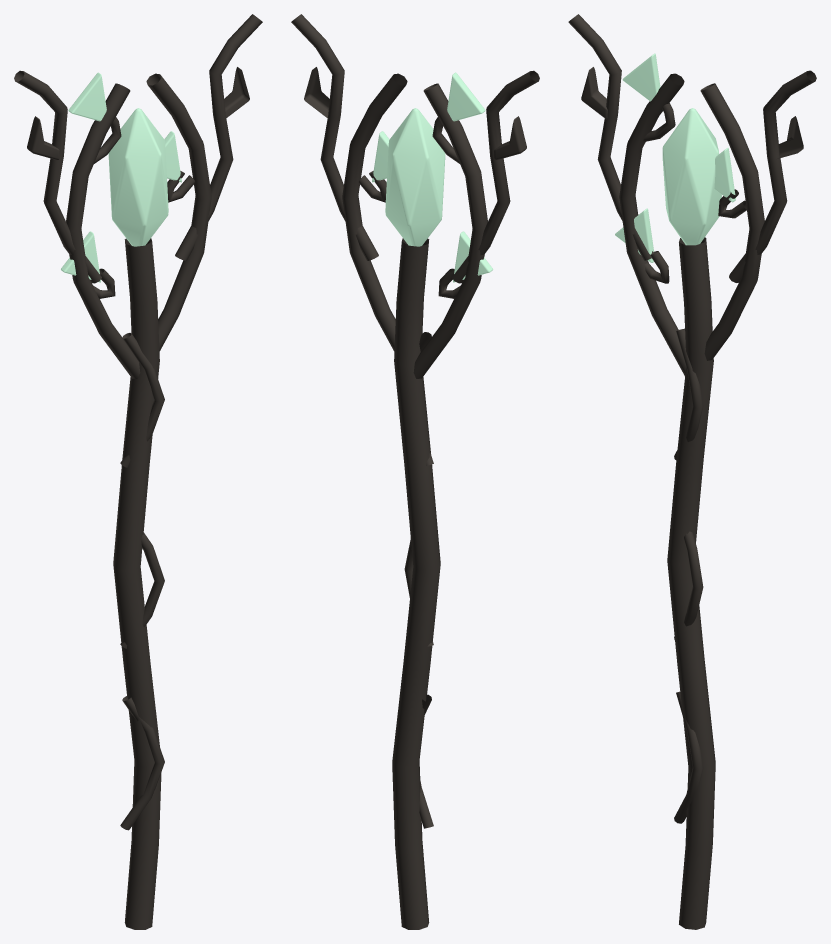
File: elderroot.glb
The picture shows the model from 3 angles, left to right: view 1: azimuth 30°, elevation 25°; view 2: azimuth 150°, elevation 25°; view 3: azimuth 330°, elevation 25°; orthographic projection.
Visible parts, largest first — view 1: Living staff, Faceted spirit crystal.002, Branch crown, Branch crown.001, Elderroot antler.001, Elderroot antler, Twisted root braid, Twisted root braid.002, Metal leaf.002, Twisted root braid.001, Forged hooked thorn.034, Forged hooked thorn.035 (+2 smaller); view 2: Living staff, Faceted spirit crystal.002, Branch crown, Branch crown.001, Elderroot antler.001, Elderroot antler, Metal leaf.002, Forged hooked thorn.034, Forged hooked thorn.035, Metal leaf.001, Metal leaf; view 3: Living staff, Faceted spirit crystal.002, Branch crown.001, Branch crown, Elderroot antler, Elderroot antler.001, Twisted root braid, Twisted root braid.002, Twisted root braid.001, Metal leaf.002, Metal leaf.001, Forged hooked thorn.034 (+2 smaller).
Boxes of the visible parts, <box> form: Living staff: <box>113,238,161,929</box>; Faceted spirit crystal.002: <box>108,108,168,246</box>; Branch crown: <box>66,83,140,378</box>; Branch crown.001: <box>146,73,211,350</box>; Elderroot antler.001: <box>175,14,262,260</box>; Elderroot antler: <box>14,70,101,283</box>; Twisted root braid: <box>120,695,164,830</box>; Twisted root braid.002: <box>120,333,164,467</box>; Metal leaf.002: <box>68,72,106,121</box>; Twisted root braid.001: <box>120,532,164,648</box>; Forged hooked thorn.034: <box>27,116,59,159</box>; Forged hooked thorn.035: <box>224,67,249,118</box>; Living staff: <box>392,238,440,929</box>; Faceted spirit crystal.002: <box>385,108,445,246</box>; Branch crown: <box>413,83,487,378</box>; Branch crown.001: <box>342,73,407,350</box>; Elderroot antler.001: <box>291,14,378,260</box>; Elderroot antler: <box>452,70,539,283</box>; Metal leaf.002: <box>447,72,485,121</box>; Forged hooked thorn.034: <box>494,116,526,159</box>; Forged hooked thorn.035: <box>304,67,329,118</box>; Metal leaf.001: <box>372,131,389,182</box>; Metal leaf: <box>453,231,492,282</box>; Living staff: <box>667,237,715,929</box>; Faceted spirit crystal.002: <box>662,108,721,245</box>; Branch crown.001: <box>700,83,764,360</box>; Branch crown: <box>619,73,686,375</box>; Elderroot antler: <box>568,14,654,260</box>; Elderroot antler.001: <box>729,70,816,282</box>; Twisted root braid: <box>674,691,703,823</box>; Twisted root braid.002: <box>674,328,703,459</box>; Twisted root braid.001: <box>674,531,703,639</box>; Metal leaf.002: <box>622,53,660,101</box>; Metal leaf.001: <box>714,148,735,202</box>; Forged hooked thorn.034: <box>581,67,607,119</box>.
Bounding box in the file's own units: 0.6412 × 2.19 × 0.1304.
